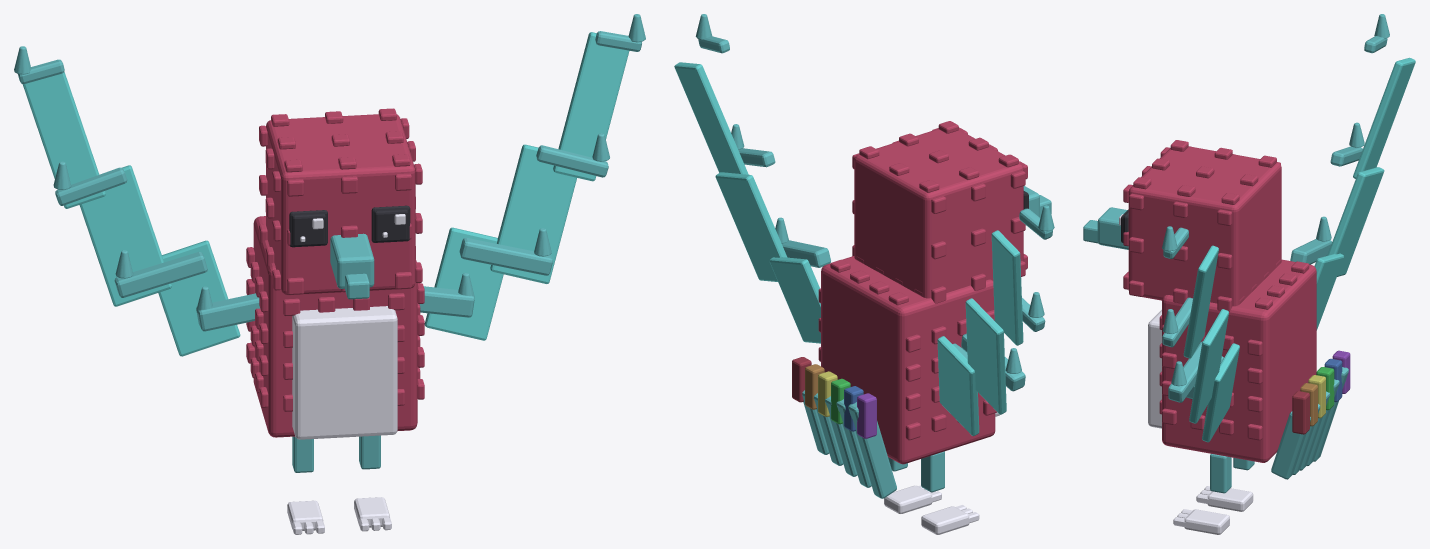
File: RainbowParrot.obj
The picture shows the model from 3 angles, left to right: view 1: azimuth 30°, elevation 25°; view 2: azimuth 150°, elevation 25°; view 3: azimuth 270°, elevation 25°; orthographic projection. The views are drawn at different scales.
Visible parts, largest first — view 1: RainbowParrot; view 2: RainbowParrot; view 3: RainbowParrot.
Part boxes in pixels (x1=…): RainbowParrot: x1=14, y1=14, x2=645, y2=534; RainbowParrot: x1=674, y1=14, x2=1054, y2=534; RainbowParrot: x1=1083, y1=14, x2=1415, y2=534.
Size of the model in its own units: 2.61 by 2.23 by 1.66.
